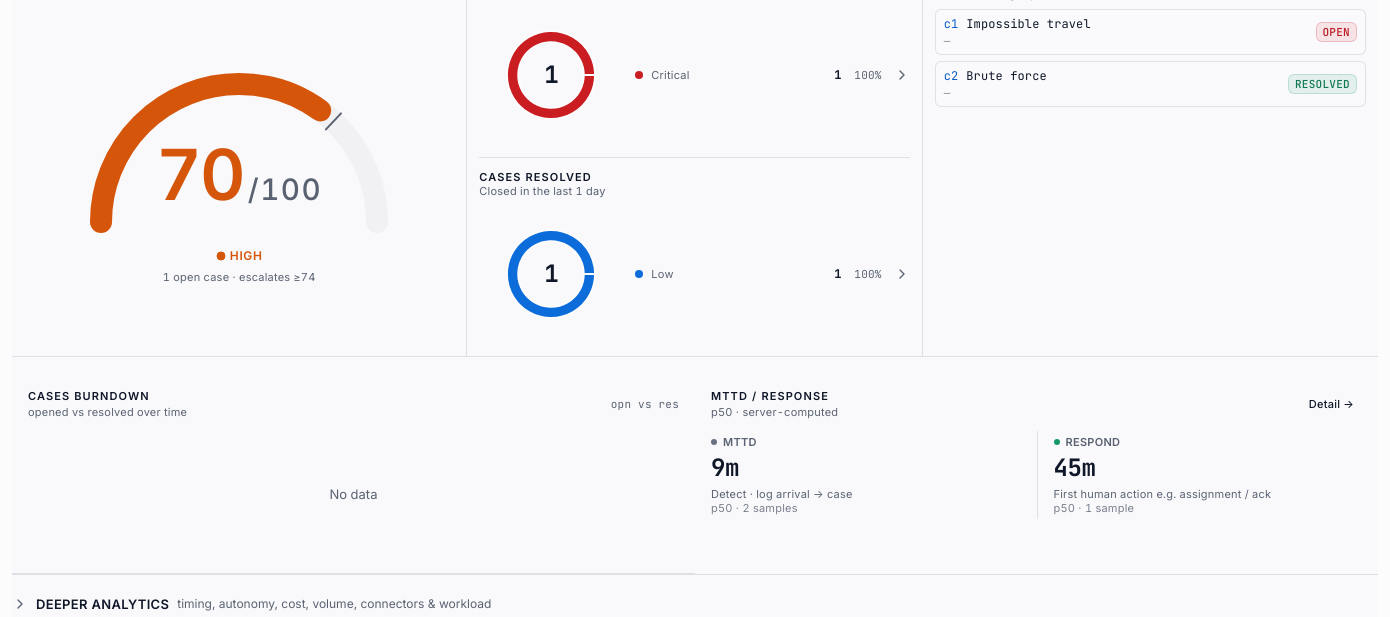
Test case: Overview — ingest-coverage tile › shows the all-clear when every source is reporting
(page scrolled)
Click the button "Deeper analytics". click: (103, 604)
box: [12,591,1378,616]
(page scrolled)
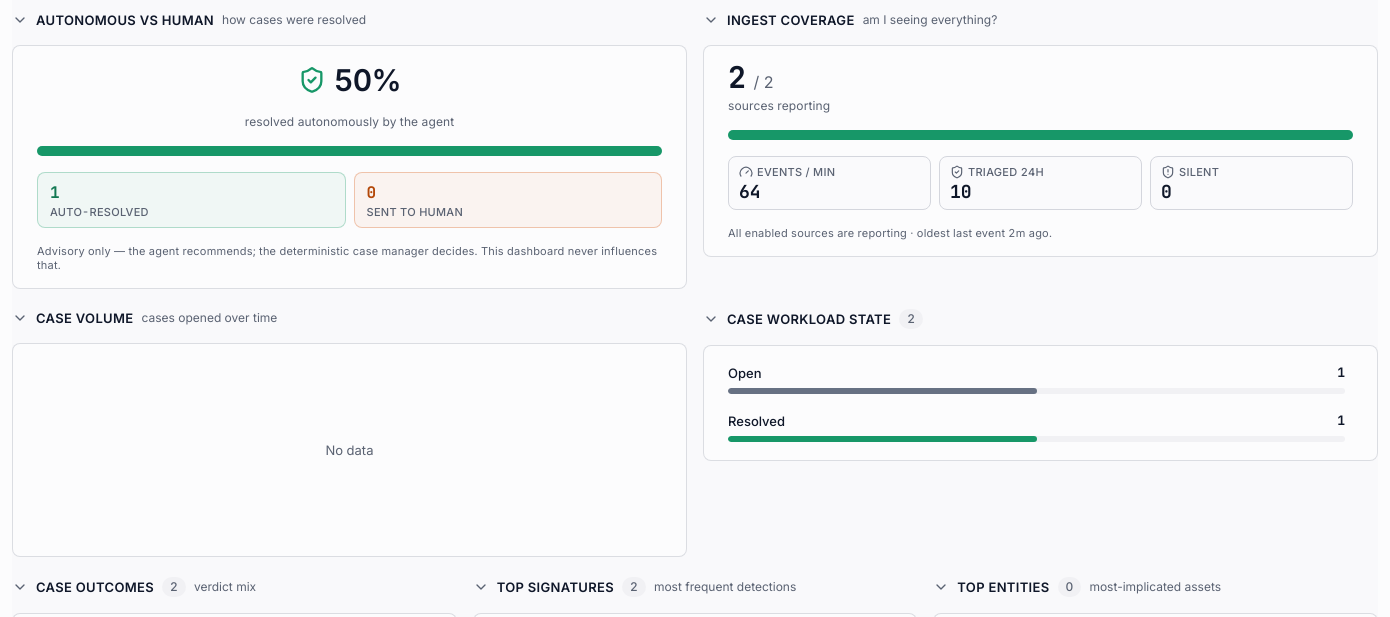
Now the text "All enabled sources are reporting" is shown, box [728,226,907,240]
